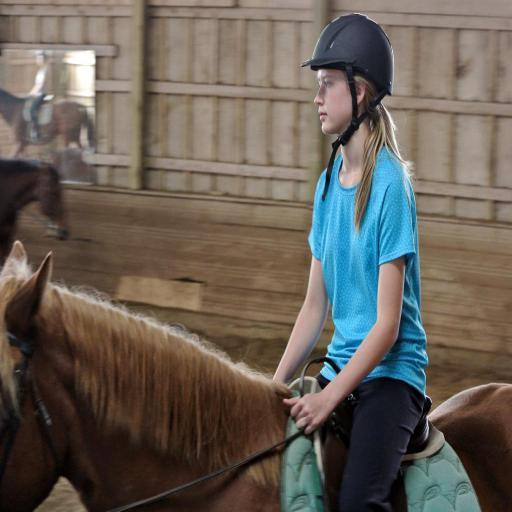horse: (0, 237, 512, 512), (0, 153, 69, 264), (1, 86, 94, 157)
